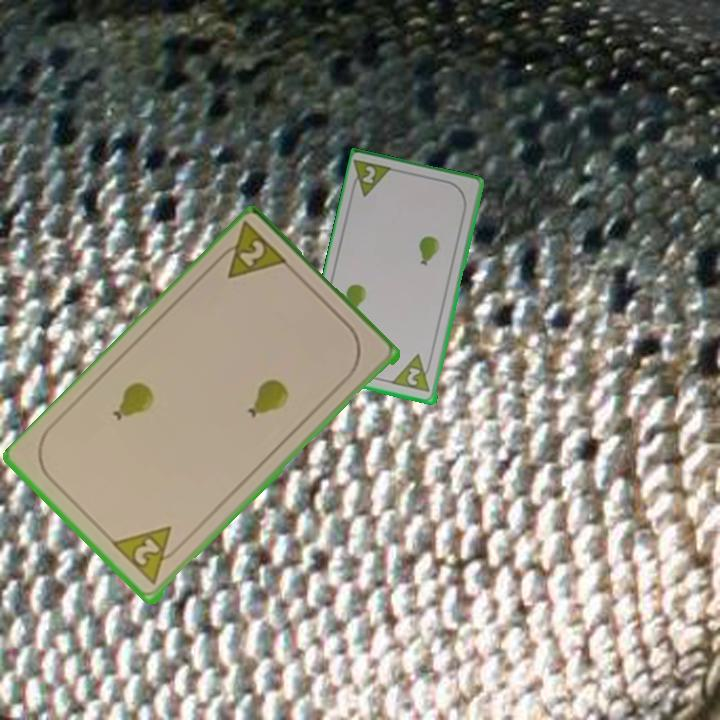2p: (209, 220, 293, 283), (110, 523, 187, 589), (347, 156, 397, 201), (390, 351, 436, 395)
